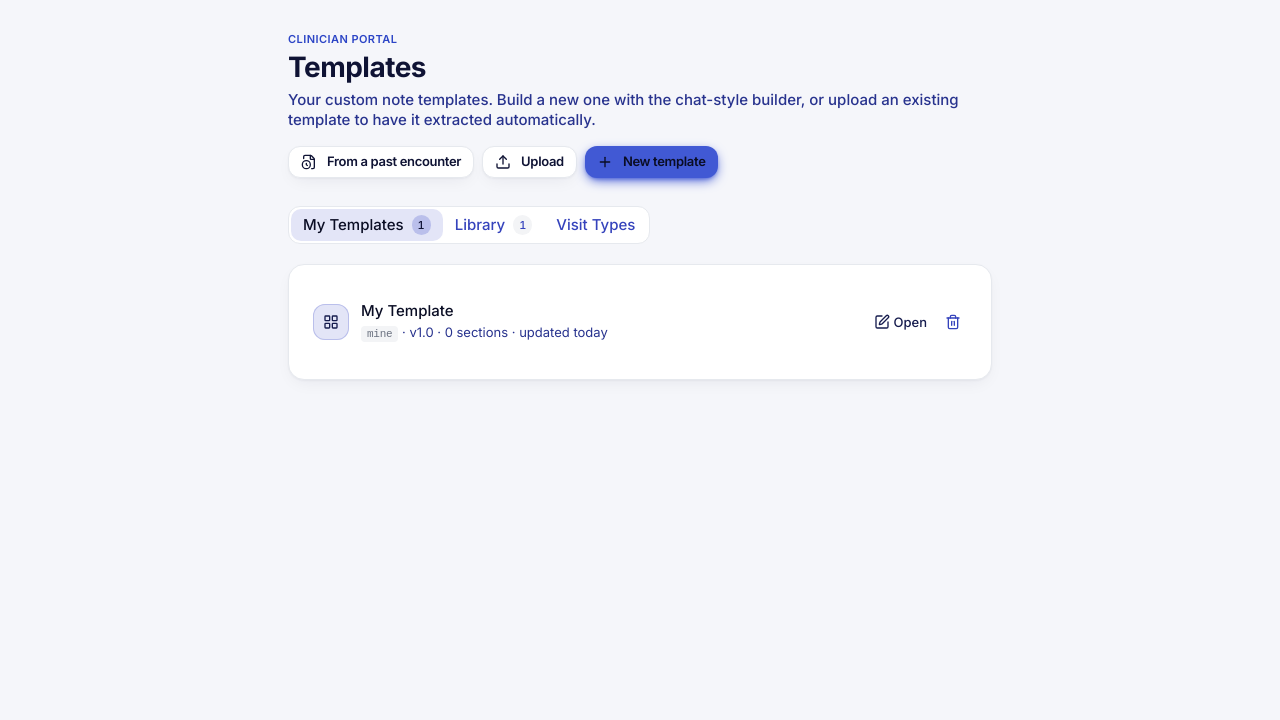
Test case: PortalTemplatesPage — from a past encounter (from-note, flag-gated) › surfaces an in-modal error when seeding a note fails
Click the button "From a past encounter".
click(381, 162)  # box [288, 146, 474, 178]
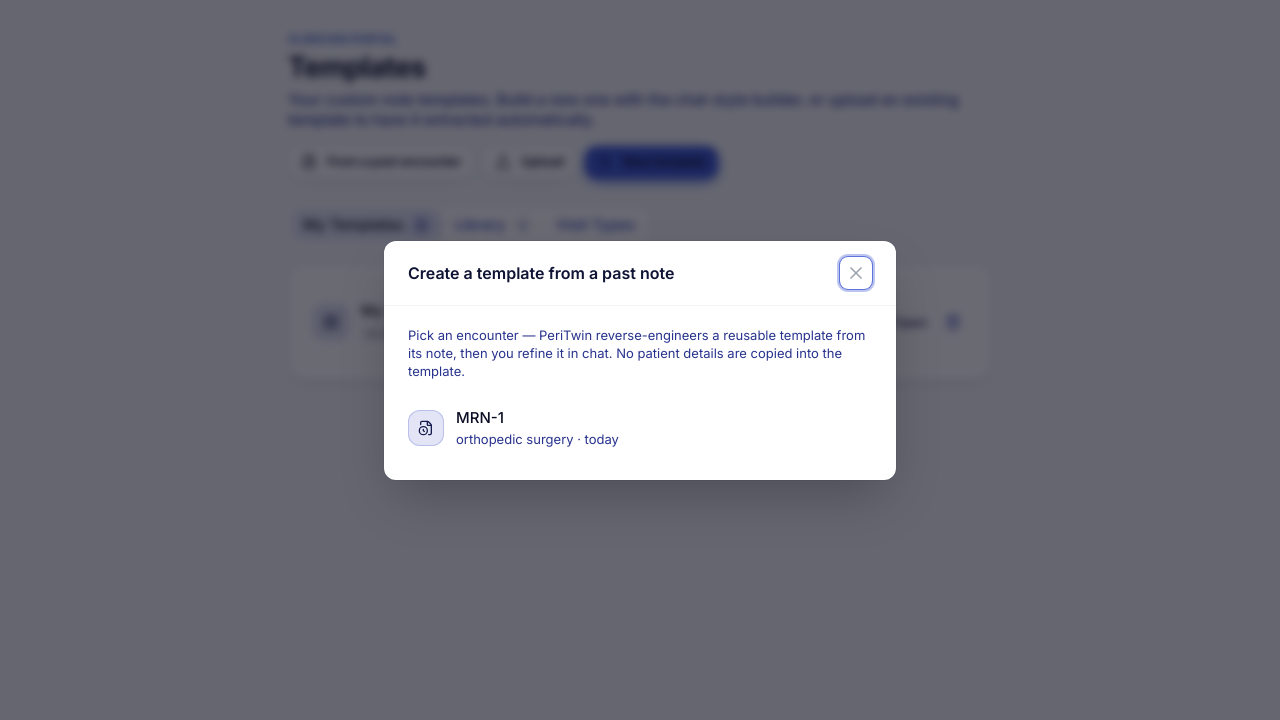
Click the text "MRN-1".
click(480, 417)  # box [456, 408, 504, 426]
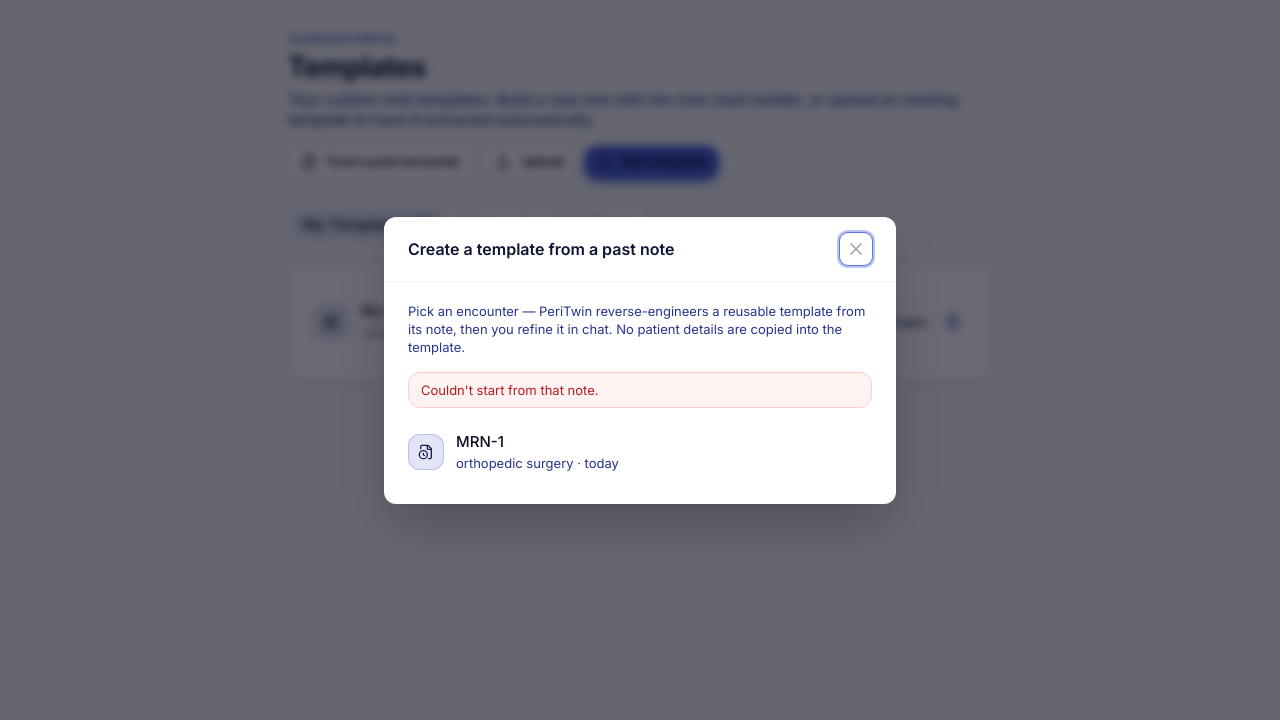
Result: the text "MRN-1" is shown at [456, 432, 504, 450]
Result: the text "Couldn't start from that note." is shown at [421, 380, 598, 398]
